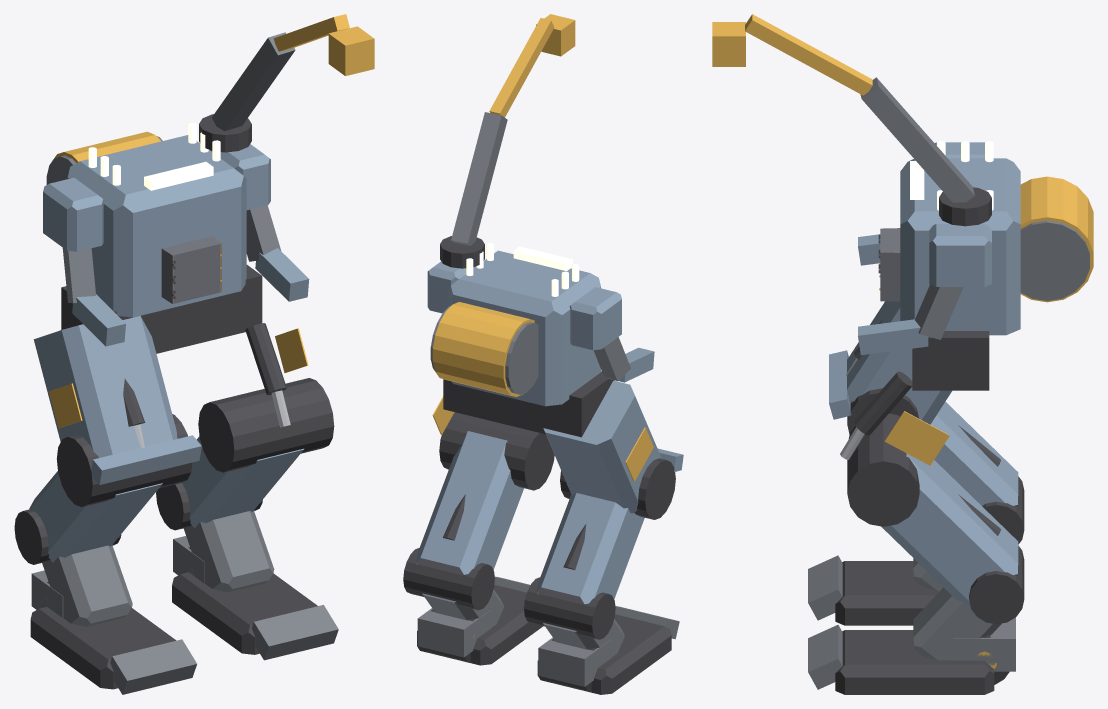
File: lineman.glb
3 views of the same model, side by side, from view 1: azimuth 30°, elevation 25°; view 2: azimuth 150°, elevation 25°; view 3: azimuth 270°, elevation 25° (orthographic). The views are drawn at different scales.
Visible parts, largest first — view 1: torso, thigh-1, knee1, foot1_sole, foot-1_sole, hips, shin-1, meta1, meta-1, shin1, knee-1, shoulder-1 (+24 smaller); view 2: torso, shin1, thigh-1, shin-1, cable, hips, knee1, foot-1_sole, hock-1, hock1, boom_a, shoulder-1 (+16 smaller); view 3: torso, shin1, foot1_sole, knee1, foot-1_sole, thigh-1, drum, shin-1, hips, shoulder1, boom_a, cable (+16 smaller).
Part boxes in pixels (box(x1,y1,x2,y2)): torso: box(67, 135, 246, 317); thigh-1: box(33, 316, 201, 484); knee1: box(198, 378, 334, 472); foot1_sole: box(172, 572, 317, 654); foot-1_sole: box(30, 607, 176, 689); hips: box(61, 265, 262, 353); shin-1: box(29, 471, 162, 562); meta1: box(183, 510, 274, 592); meta-1: box(42, 545, 132, 626); shin1: box(182, 436, 303, 528); knee-1: box(56, 414, 192, 506); shoulder-1: box(43, 177, 104, 251); torso: box(448, 250, 600, 406); shin1: box(415, 431, 523, 576); thigh-1: box(543, 380, 683, 513); shin-1: box(536, 493, 644, 606); cable: box(432, 302, 534, 396); hips: box(443, 371, 614, 437); knee1: box(439, 412, 554, 490); foot-1_sole: box(537, 614, 671, 694); hock-1: box(524, 577, 615, 639); hock1: box(403, 548, 494, 610); boom_a: box(451, 112, 507, 245); shoulder-1: box(569, 287, 621, 350); torso: box(900, 158, 1020, 335); shin1: box(881, 453, 1018, 611); foot1_sole: box(835, 630, 994, 694); knee1: box(847, 413, 919, 526); foot-1_sole: box(835, 561, 939, 625); thigh-1: box(829, 301, 951, 424); drum: box(1020, 220, 1089, 300); shin-1: box(930, 401, 1018, 506); hips: box(912, 331, 989, 390); shoulder1: box(929, 224, 991, 286); boom_a: box(860, 77, 974, 202); cable: box(1020, 176, 1093, 302).
Bounding box in the file's own units: 11.6 × 30.31 × 15.82.
